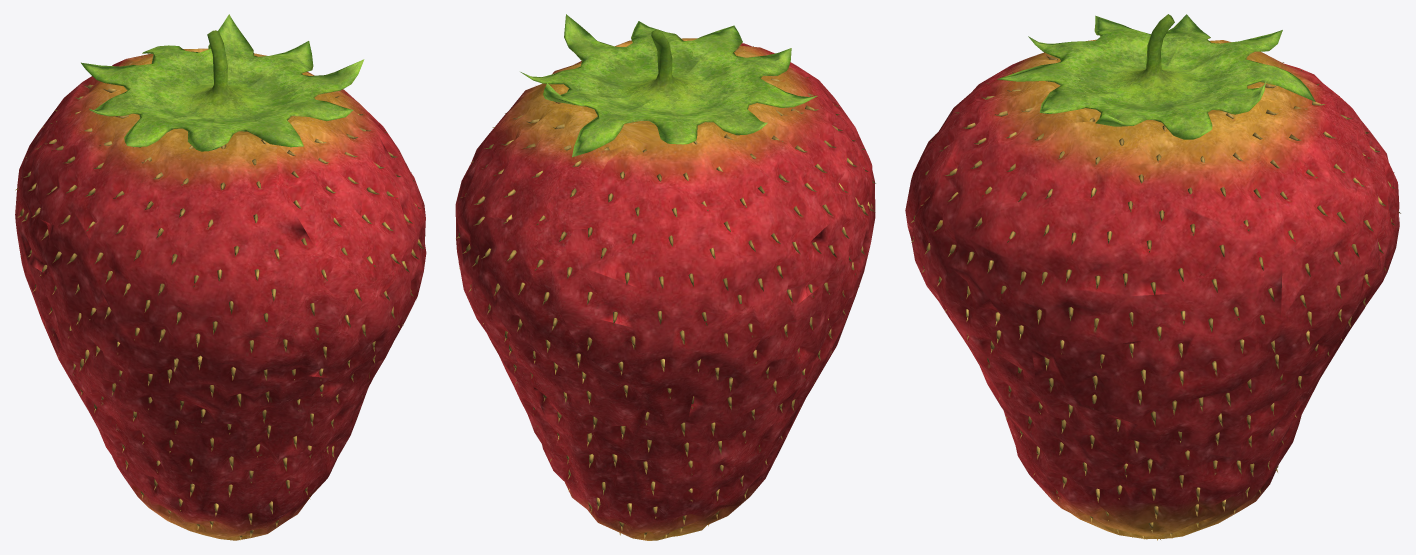
The model's file is strawberry-v1.glb.
3 views of the same model, side by side, from view 1: azimuth 30°, elevation 25°; view 2: azimuth 150°, elevation 25°; view 3: azimuth 270°, elevation 25° (orthographic). The views are drawn at different scales.
Parts seen in each view (by area): view 1: g.002, g, g.001; view 2: g.002, g, g.001; view 3: g.002, g, g.001.
Part boxes in pixels (left/top/right/bottom): g.002: left=15, top=48, right=426, bottom=540; g: left=81, top=14, right=364, bottom=151; g.001: left=15, top=54, right=425, bottom=540; g.002: left=455, top=38, right=875, bottom=540; g: left=520, top=14, right=817, bottom=157; g.001: left=456, top=46, right=875, bottom=538; g.002: left=905, top=39, right=1399, bottom=539; g: left=996, top=14, right=1315, bottom=139; g.001: left=911, top=55, right=1400, bottom=540.
Size of the model in its own units: 0.0941 by 0.1334 by 0.1148.
Materials: 1 (1 with a texture image).
